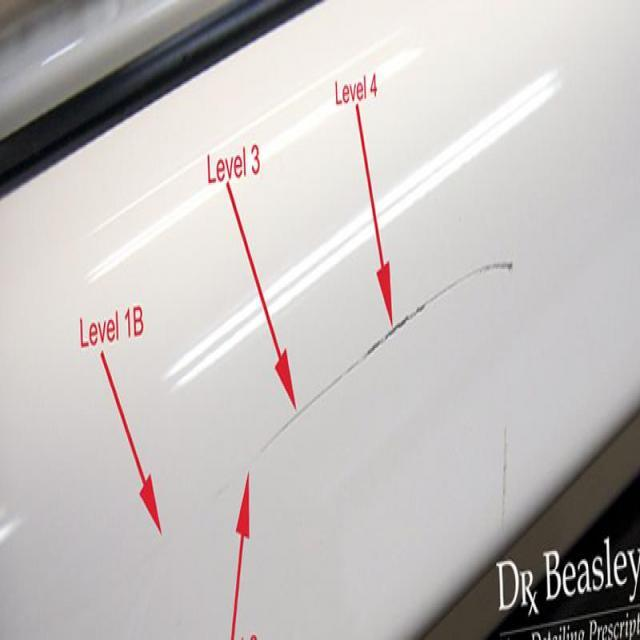scratch: (234, 255, 520, 470)
